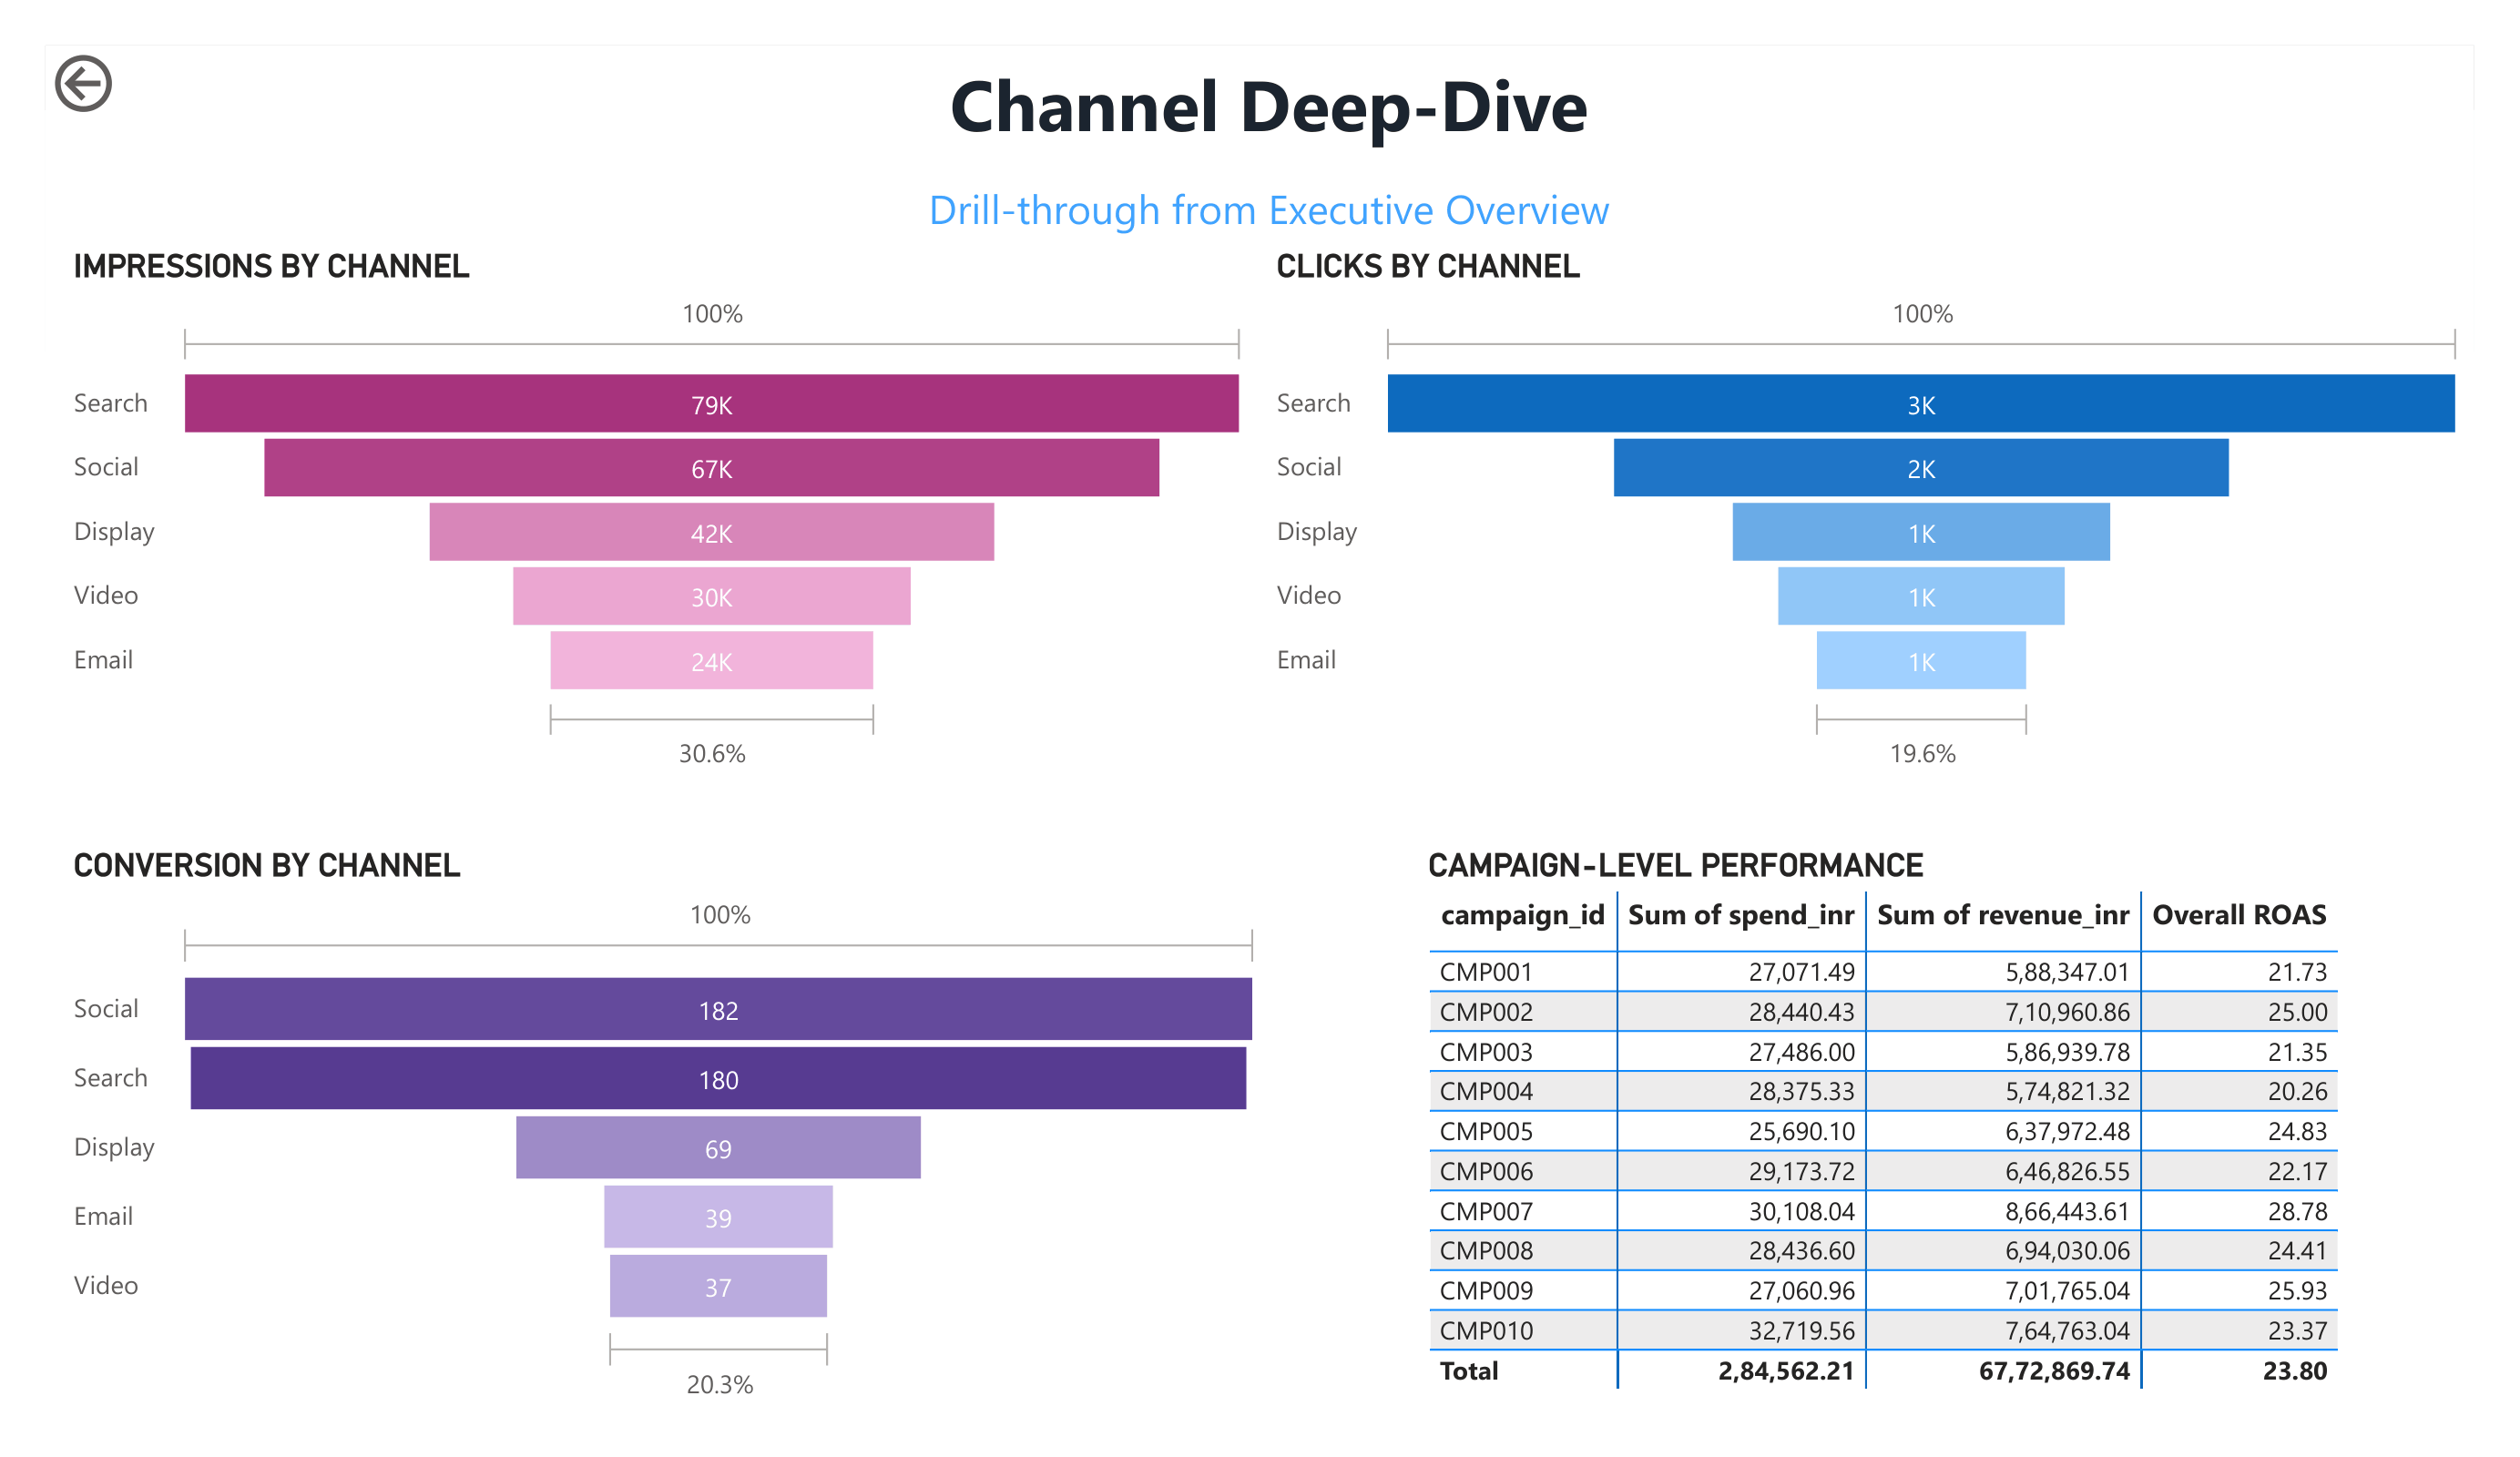

What the dashboard file says about the page in this screenshot:
{"tool":"powerbi","page":{"name":"Channel Deep-Dive","canvas":[1280,720],"ordinal":2},"visuals":[{"type":"textbox","box":[9.9,0,1270.5,66.3],"z":0},{"type":"textbox","box":[9.9,66.3,1270.5,39.8],"z":1000},{"type":"funnel","title":"CLICKS BY CHANNEL","fields":{"Category":["Marketing Campaigns ROI Dataset.channel"],"Y":["Marketing Campaigns ROI Dataset.Total Clicks"]},"box":[644.4,106,636.1,281.6],"z":2000},{"type":"tableEx","title":"CAMPAIGN-LEVEL PERFORMANCE","fields":{"Values":["Marketing Campaigns ROI Dataset.campaign_id","Sum(Marketing Campaigns ROI Dataset.spend_inr)","Sum(Marketing Campaigns ROI Dataset.revenue_inr)","Marketing Campaigns ROI Dataset.Overall ROAS"]},"box":[723.9,422.4,556.6,298.2],"z":3000},{"type":"actionButton","box":[0,0,100,40],"z":5000},{"type":"funnel","title":"CONVERSION BY CHANNEL","fields":{"Category":["Marketing Campaigns ROI Dataset.channel"],"Y":["Marketing Campaigns ROI Dataset.Total Conversion"]},"box":[9.9,422.4,636.1,298.2],"z":6000},{"type":"funnel","title":"IMPRESSIONS BY CHANNEL","fields":{"Category":["Marketing Campaigns ROI Dataset.channel"],"Y":["Marketing Campaigns ROI Dataset.Total Impression"]},"box":[9.9,106,629.5,281.6],"z":6001}]}

Visuals, with their boxes on the page's 1280x720 design canvas (x1, y1, x2, y2). These are canvas units, not pixel positions in the 2520x1457 screenshot, which may show the page scaled, cropped or inside an application window:
textbox: (10, 0, 1280, 66)
textbox: (10, 66, 1280, 106)
"CLICKS BY CHANNEL" funnel: (644, 106, 1280, 388)
"CAMPAIGN-LEVEL PERFORMANCE" tableEx: (724, 422, 1280, 721)
actionButton: (0, 0, 100, 40)
"CONVERSION BY CHANNEL" funnel: (10, 422, 646, 721)
"IMPRESSIONS BY CHANNEL" funnel: (10, 106, 639, 388)
